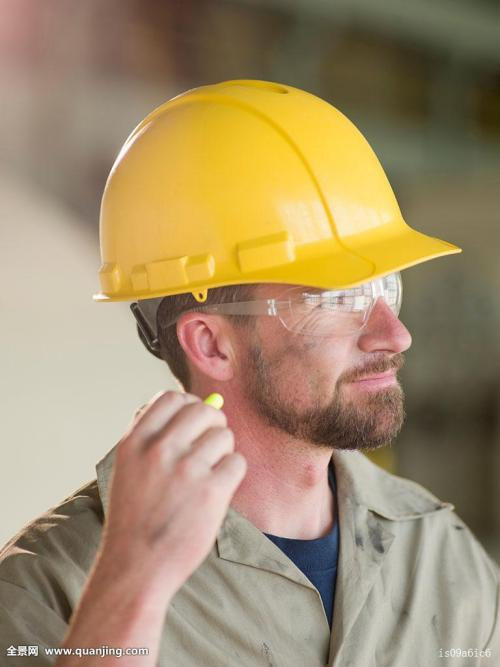hard-hat: (92, 77, 463, 304)
person: (1, 77, 499, 665)
